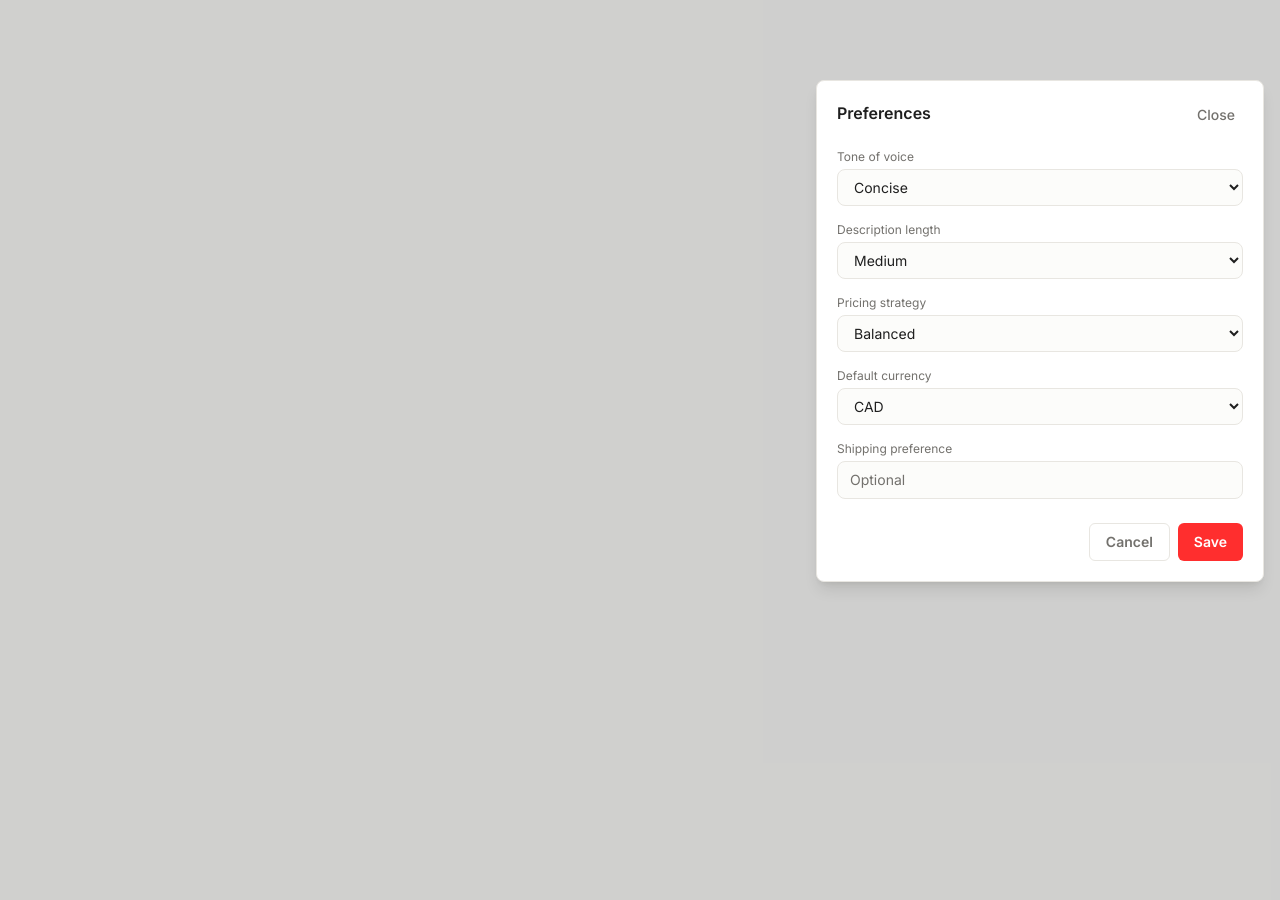
Test: PreferencesSettings › preserves unsaved values when saving fails
Select "Friendly" in the dropdown labelled "Tone of voice" at (1040, 188), box [837, 169, 1243, 206]
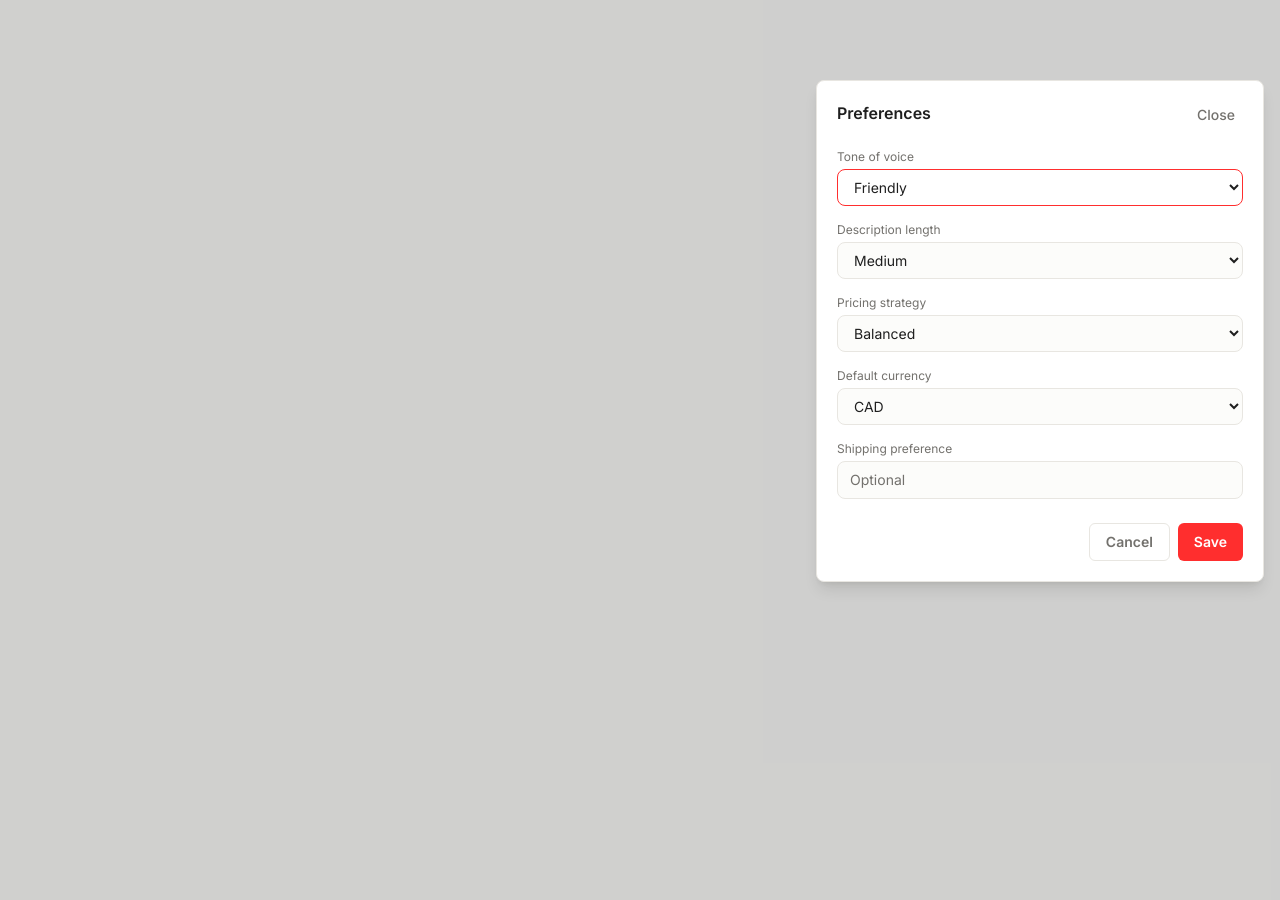
Click the button "Save" at (1210, 542), box [1178, 523, 1243, 561]
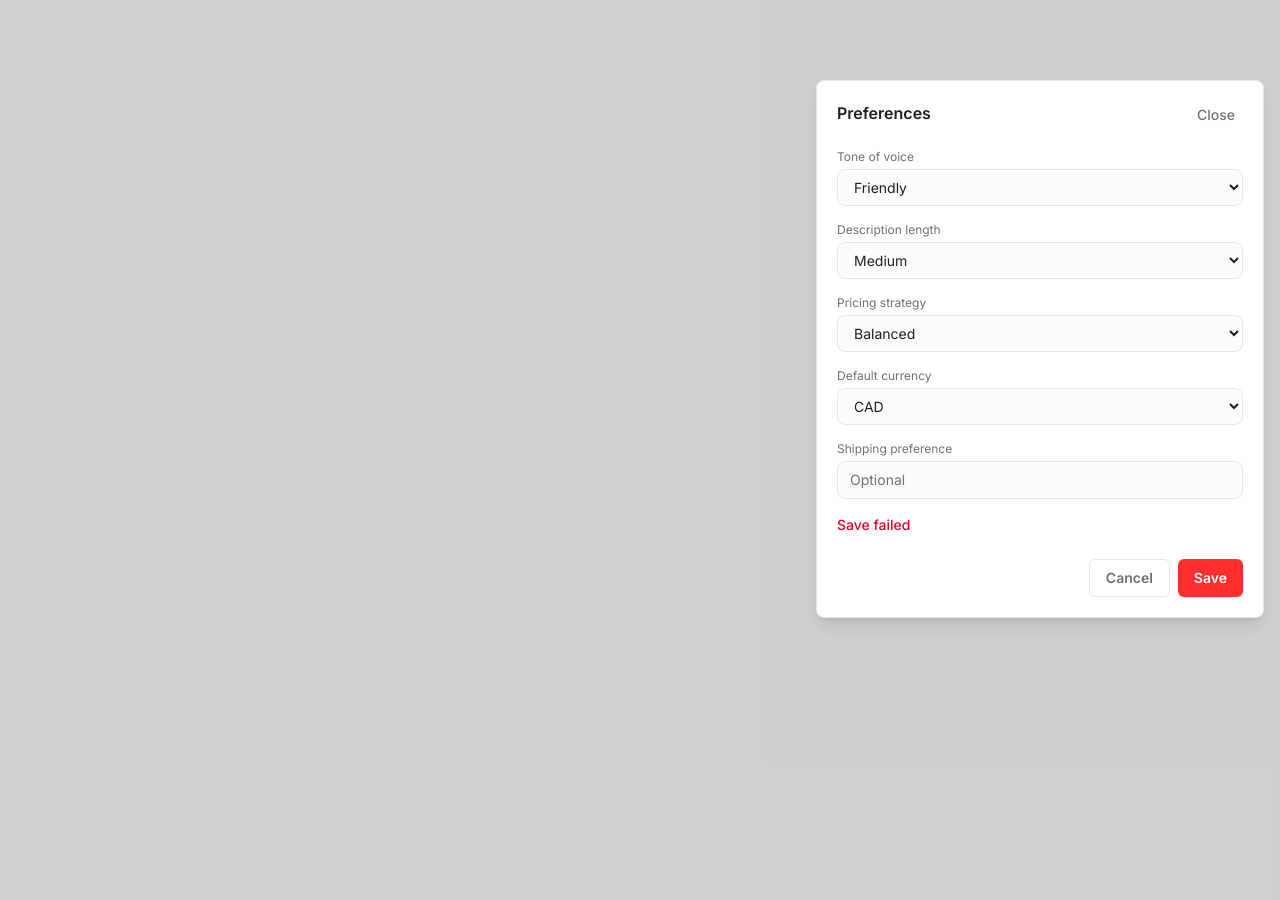
expect the message reads "Save failed": met, box [837, 516, 910, 533]
